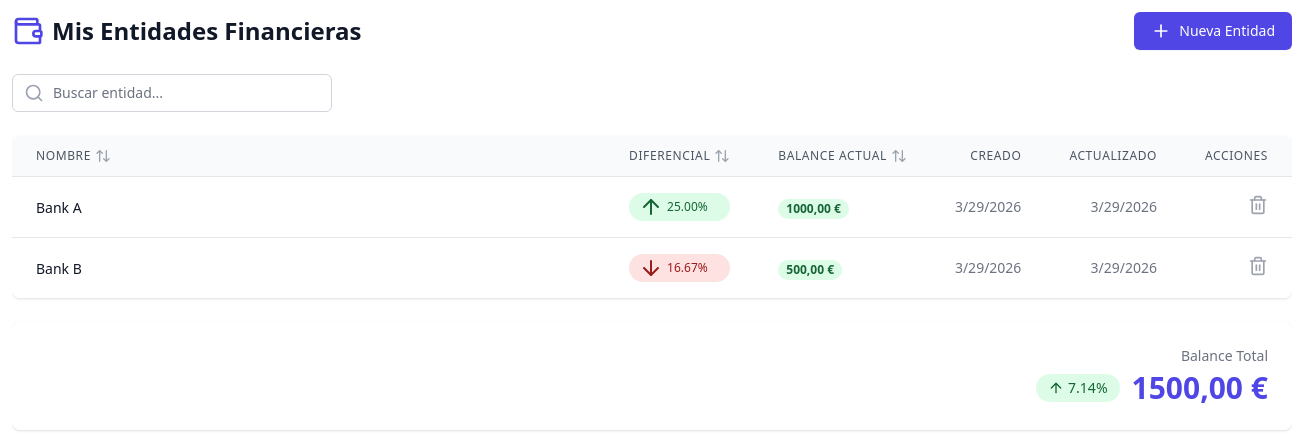
DashboardPage › USER Role › deletes an item
Expected: the link "Bank A" is shown, [36,198,82,217]
Click the button titled "Eliminar entidad" in the row of "Bank A" at [1258, 204], box [1248,194,1268,214]
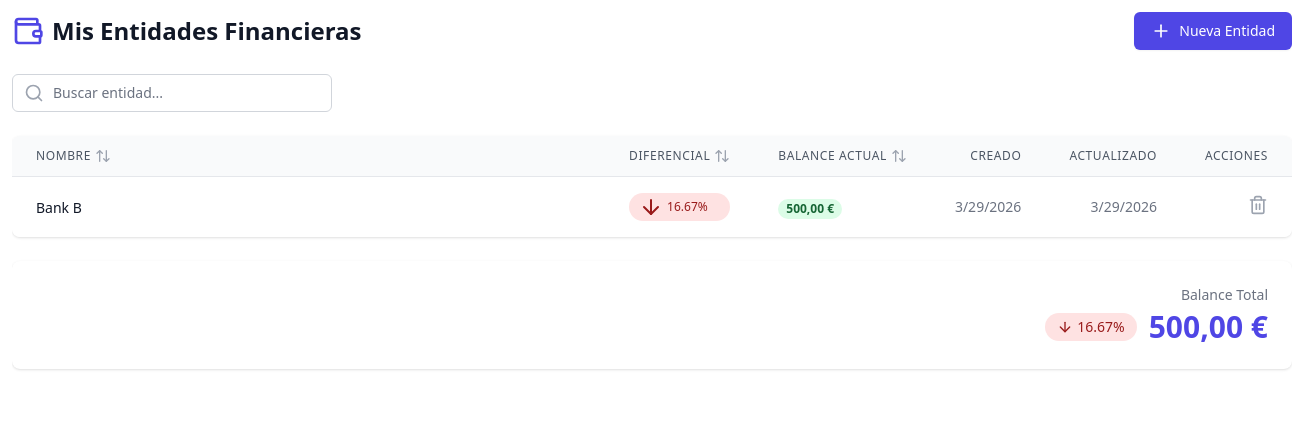
Expected: the link "Bank A" is gone
